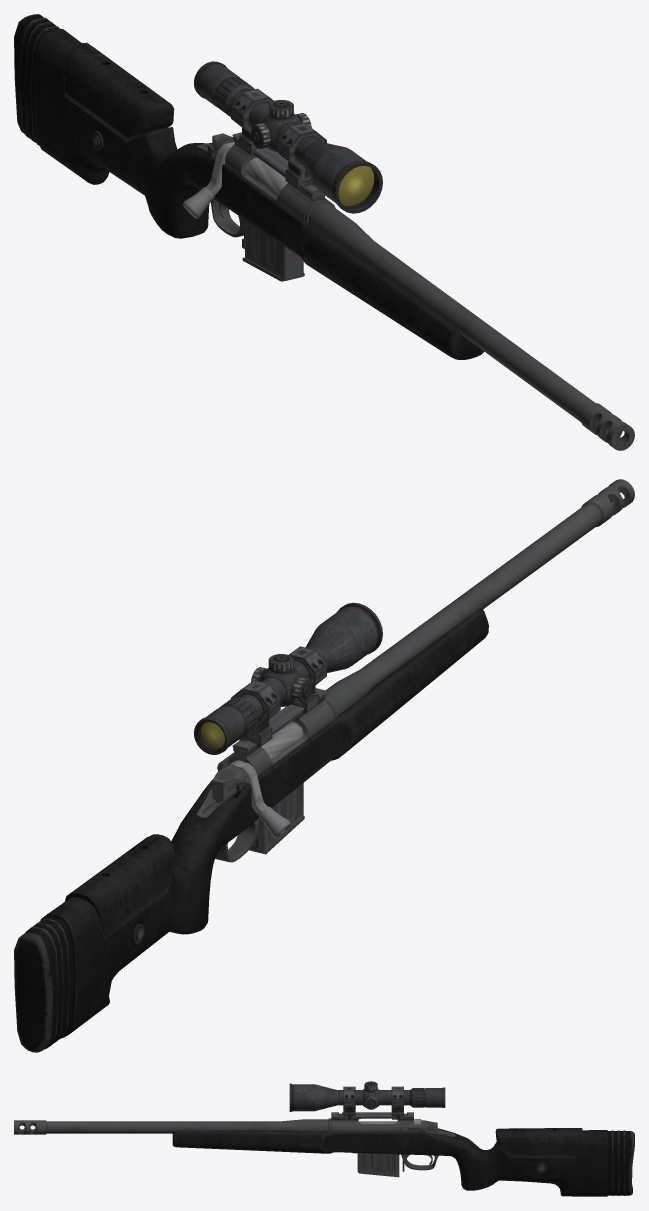
The model's file is sniper.glb.
The picture shows the model from 3 angles, top to bottom: view 1: azimuth 30°, elevation 25°; view 2: azimuth 150°, elevation 25°; view 3: azimuth 270°, elevation 25°; orthographic projection. The views are drawn at different scales.
Parts seen in each view (by area): view 1: base_sniper_0, scope_sniper_0, mag_sniper_0, bolt_sniper_0; view 2: base_sniper_0, scope_sniper_0, bolt_sniper_0, mag_sniper_0, boltrear_sniper_0; view 3: base_sniper_0, scope_sniper_0, mag_sniper_0, boltrear_sniper_0.
Boxes of the visible parts, <box> form: base_sniper_0: <box>14,14,634,450</box>; scope_sniper_0: <box>194,61,382,213</box>; mag_sniper_0: <box>242,220,304,281</box>; bolt_sniper_0: <box>183,141,287,218</box>; base_sniper_0: <box>14,479,634,1052</box>; scope_sniper_0: <box>194,602,382,754</box>; bolt_sniper_0: <box>229,721,303,837</box>; mag_sniper_0: <box>249,783,304,854</box>; boltrear_sniper_0: <box>212,764,244,802</box>; base_sniper_0: <box>14,1112,634,1196</box>; scope_sniper_0: <box>289,1081,445,1119</box>; mag_sniper_0: <box>357,1153,399,1177</box>; boltrear_sniper_0: <box>421,1120,437,1134</box>.
Bounding box in the file's own units: 0.0876 × 0.2294 × 1.15.
Materials: 1 (1 with a texture image).
